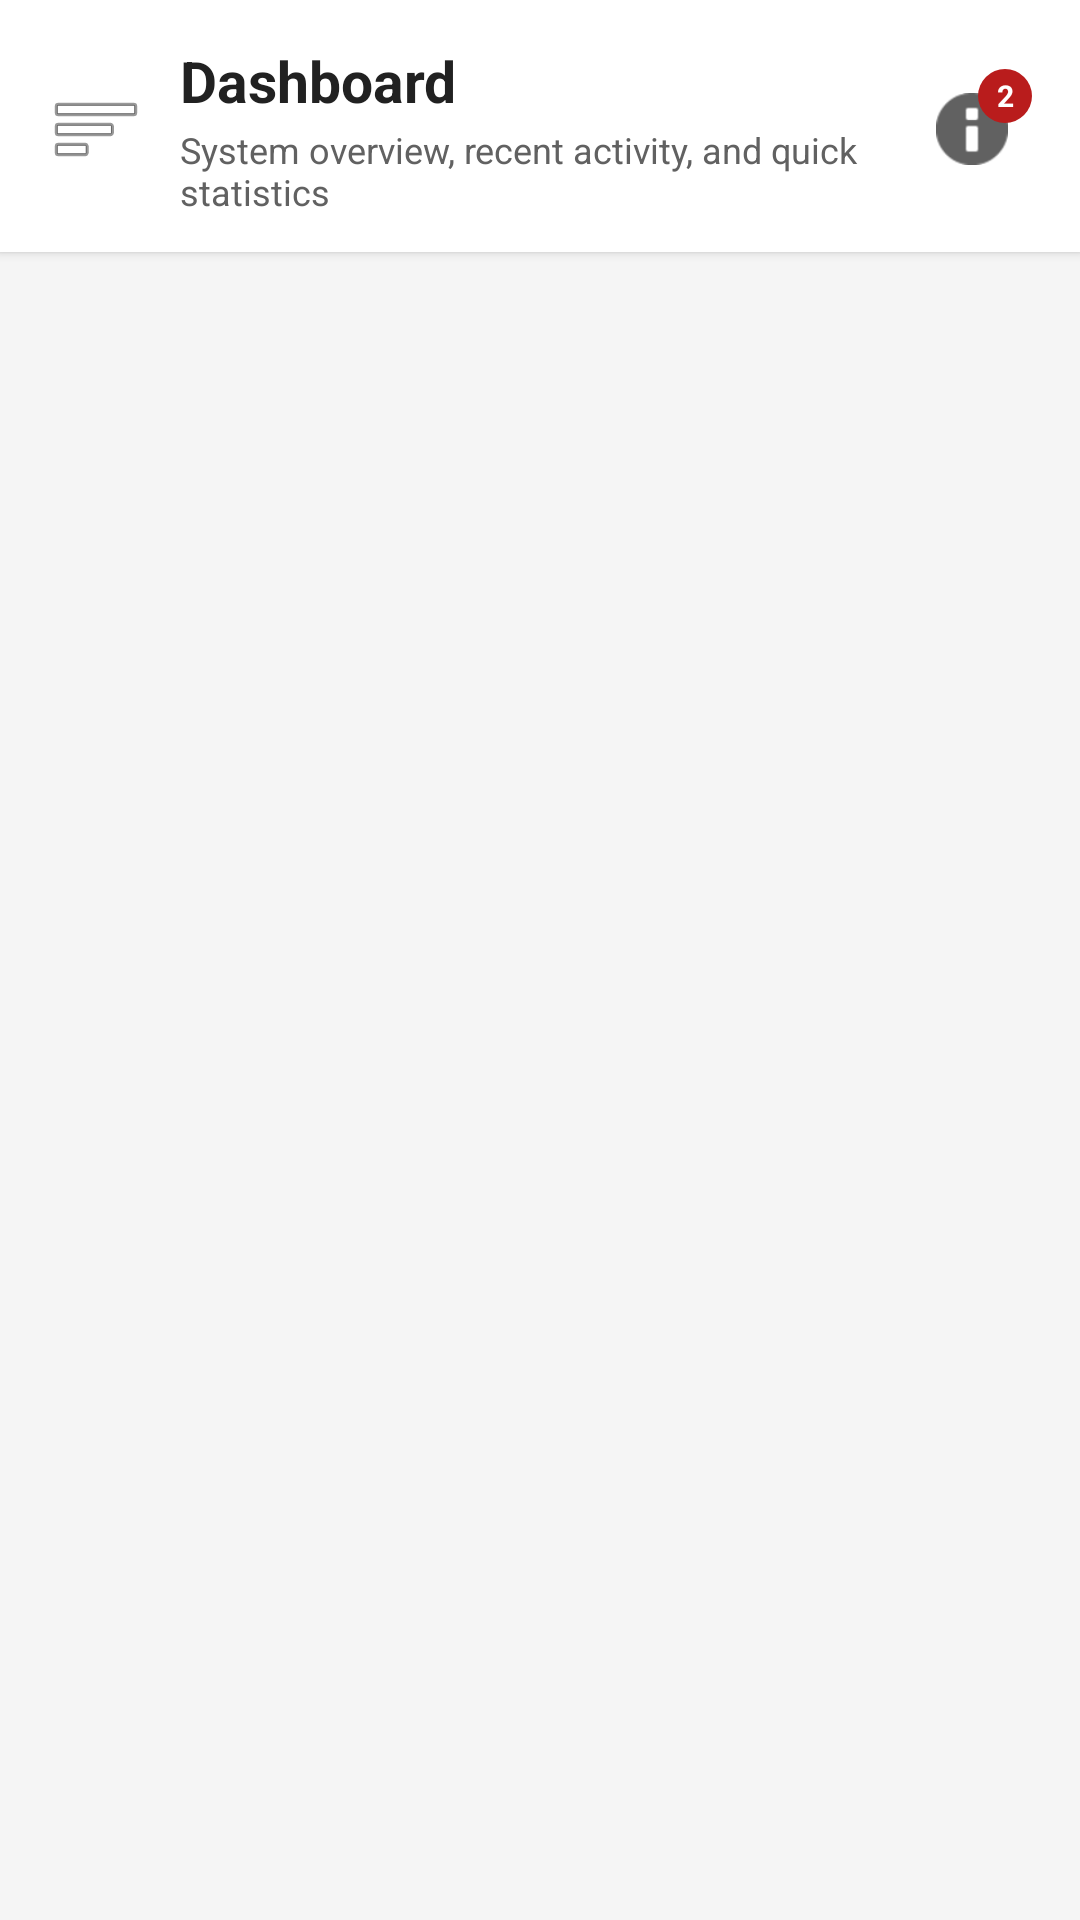

Icons on this 1080w x 1920h Android screen, each with its box as (x1, y1, x2, y2):
Open navigation: (55, 103, 137, 156)
